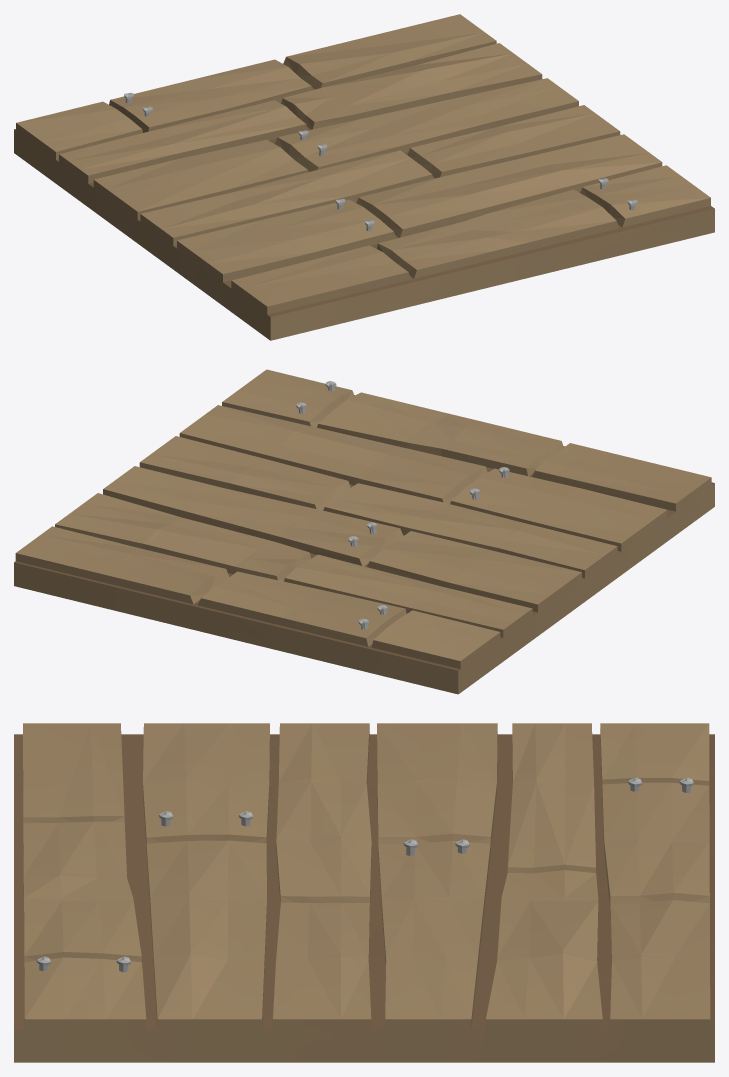
Rendered from floor_wood_1.dae.
3 views of the same model, one above another, from view 1: azimuth 30°, elevation 25°; view 2: azimuth 150°, elevation 25°; view 3: azimuth 270°, elevation 25° (orthographic). The views are drawn at different scales.
Parts seen in each view (by area): view 1: floor_wood_1; view 2: floor_wood_1; view 3: floor_wood_1.
Boxes of the visible parts, x1,y1,x2,y2 form: floor_wood_1: (14,14,714,340); floor_wood_1: (14,369,714,694); floor_wood_1: (14,723,714,1062).
Size of the model in its own units: 2 by 2 by 0.176.
